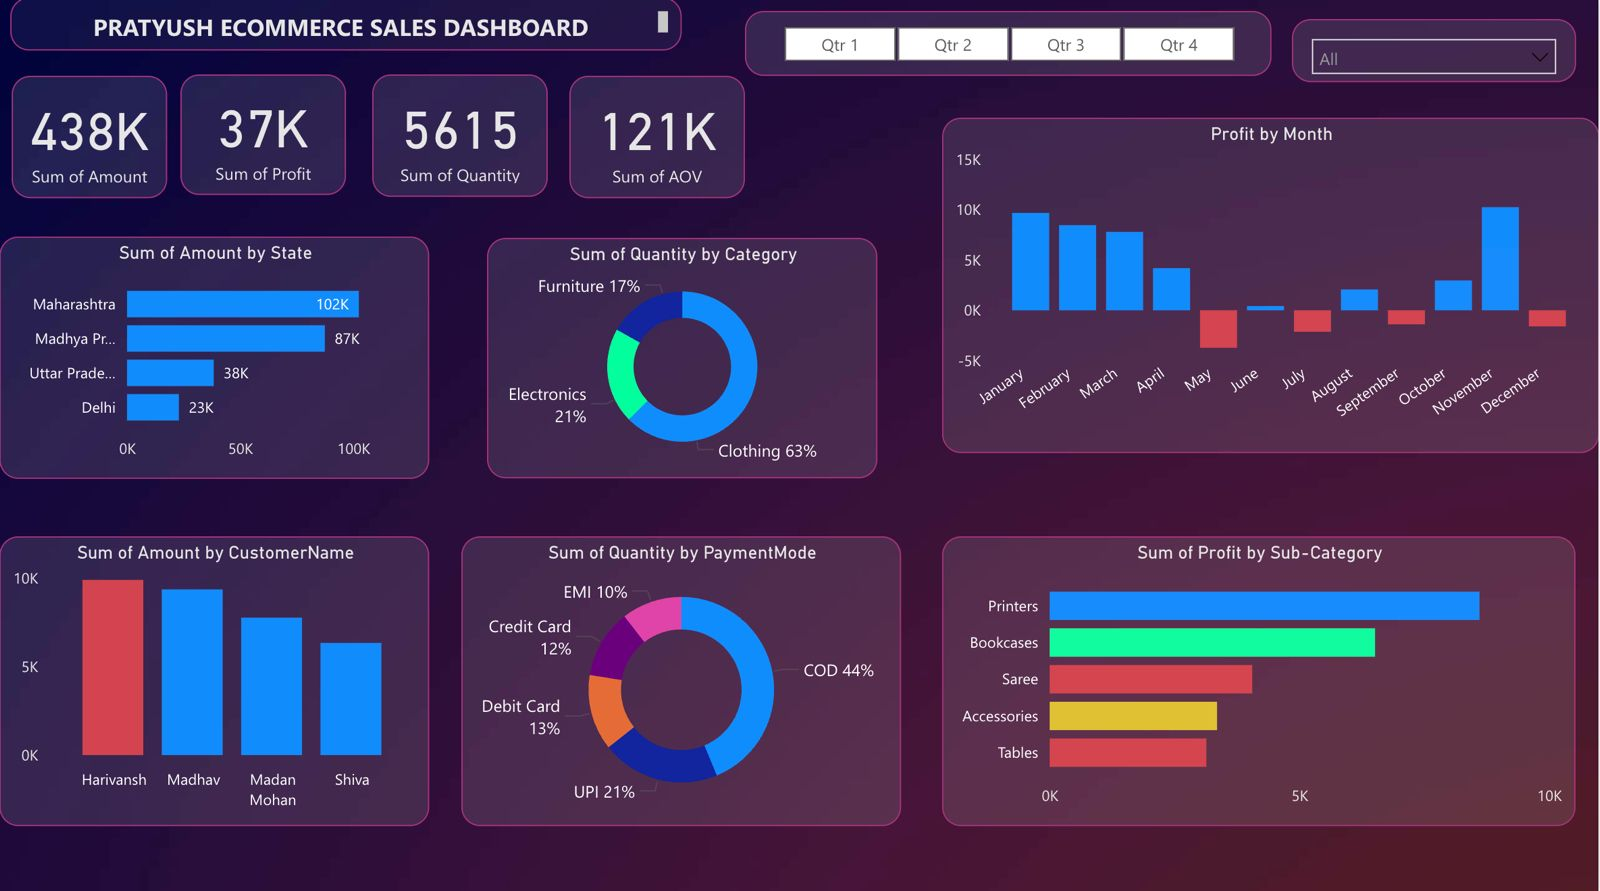

This screenshot's page, from the dashboard's own definition file:
{"tool":"powerbi","page":{"name":"Page 1","canvas":[1280,720],"ordinal":0},"visuals":[{"type":"textbox","box":[9.1,0,537.5,42.4],"z":0},{"type":"columnChart","title":" Profit by Month","fields":{"Category":["Orders.Order Date.Variation.Date Hierarchy.Month"],"Y":["Details.Profit"]},"box":[754.7,96.3,525.8,268.4],"z":1000},{"type":"barChart","fields":{"Category":["Details.Sub-Category"],"Y":["Details.Profit"]},"box":[754.7,431.1,506.8,232.1],"z":2000},{"type":"donutChart","fields":{"Category":["Details.PaymentMode"],"Y":["Details.Quantity"]},"box":[369.5,431.1,352.1,232.1],"z":3000},{"type":"donutChart","fields":{"Category":["Details.Category"],"Y":["Details.Quantity"]},"box":[390,192.6,312.6,192.6],"z":4000},{"type":"card","fields":{"Values":["Details.Amount"]},"box":[9.5,63.2,124.7,97.9],"z":5000},{"type":"card","fields":{"Values":["Details.Quantity"]},"box":[298.4,61.6,140.5,97.9],"z":6000},{"type":"card","fields":{"Values":["Details.Profit"]},"box":[145.3,61.6,132.6,96.3],"z":7000},{"type":"card","fields":{"Values":["Details.AOV"]},"box":[456.3,63.2,140.5,97.9],"z":8000},{"type":"barChart","fields":{"Category":["Orders.State"],"Y":["Details.Amount"]},"box":[0,191.1,344.2,194.2],"z":9000},{"type":"columnChart","fields":{"Category":["Orders.CustomerName"],"Y":["Details.Amount"]},"box":[0,431.1,344.2,232.1],"z":10000},{"type":"slicer","fields":{"Values":["Orders.Order Date.Variation.Date Hierarchy.Quarter"]},"box":[596.8,11.1,421.6,52.1],"z":11000},{"type":"slicer","fields":{"Values":["Orders.State"]},"box":[1034.2,17.4,227.4,50.5],"z":12000}]}

Visuals, with their boxes in screenshot pixels (x1, y1, x2, y2), scaled from the page's 1280x720 canvas onto the 1600x891 screenshot:
textbox: crop(11, 0, 683, 52)
" Profit by Month" columnChart: crop(943, 119, 1599, 451)
barChart - Details.Sub-Category x Details.Profit: crop(943, 533, 1577, 821)
donutChart - Details.PaymentMode x Details.Quantity: crop(462, 533, 902, 821)
donutChart - Details.Category x Details.Quantity: crop(488, 238, 878, 477)
card - Details.Amount: crop(12, 78, 168, 199)
card - Details.Quantity: crop(373, 76, 549, 197)
card - Details.Profit: crop(182, 76, 347, 195)
card - Details.AOV: crop(570, 78, 746, 199)
barChart - Orders.State x Details.Amount: crop(0, 236, 430, 477)
columnChart - Orders.CustomerName x Details.Amount: crop(0, 533, 430, 821)
slicer - Orders.Order Date.Variation.Date Hierarchy.Quarter: crop(746, 14, 1273, 78)
slicer - Orders.State: crop(1293, 22, 1577, 84)
